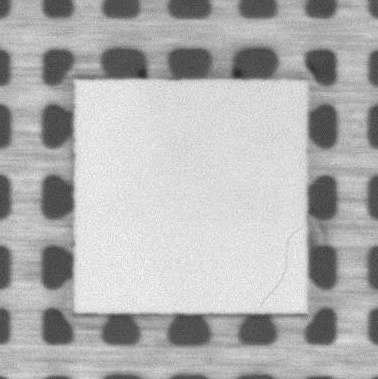DIE_CRACK: (258, 225, 304, 308)
